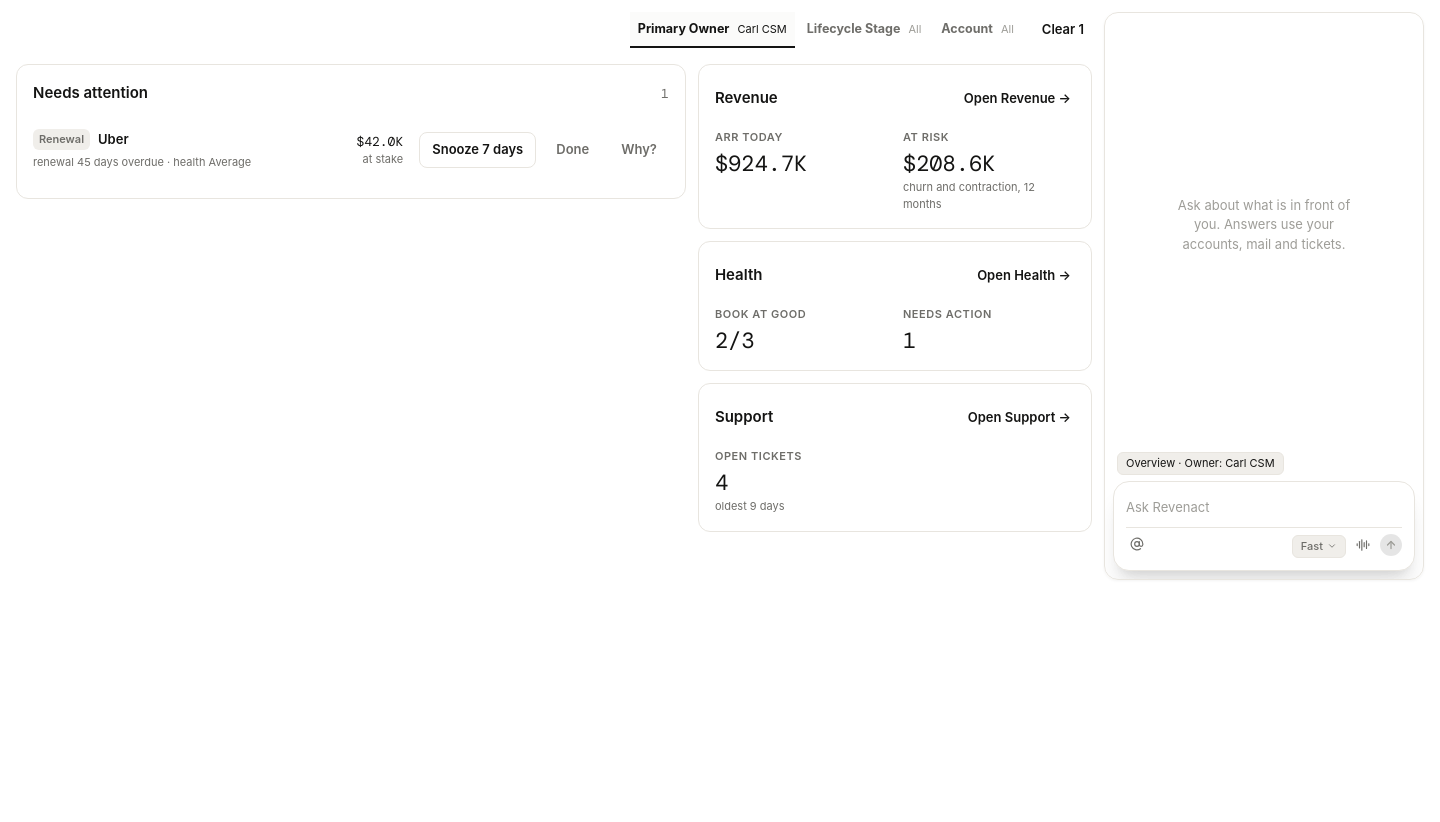
Test: Overview › keeps an Undo to the filter it was made under
Expected: the link "Uber" is shown, [98,130,128,149]
Click the button with aria-label "Snooze Uber for 7 days" at (478, 150), box [419,132,536,168]
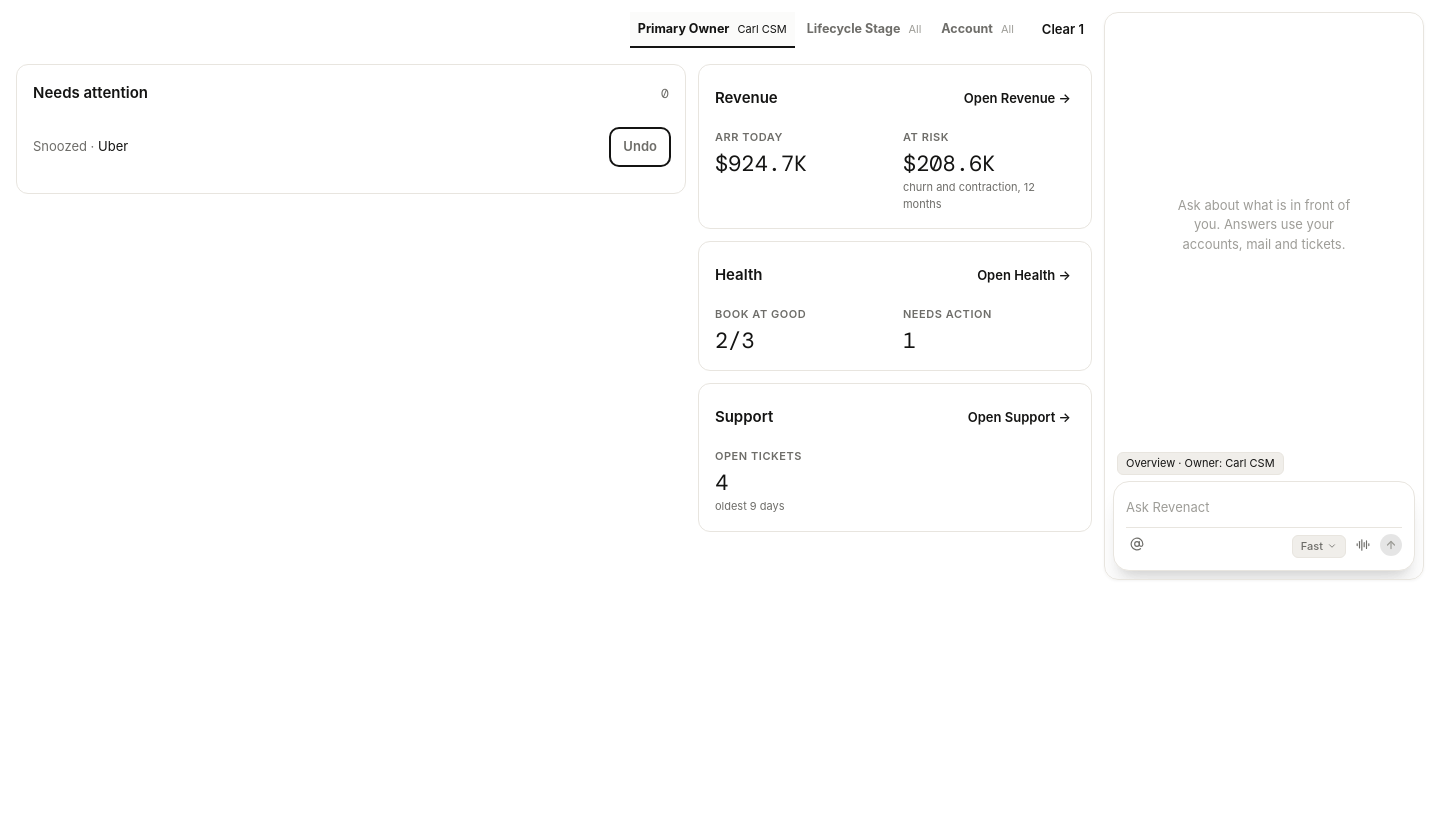
Now the text "Snoozed · Uber" is shown, box [33,137,128,157]
Select "Dana CSM" in the dropdown labelled "Primary Owner" at (712, 30), box [630,12,795,48]
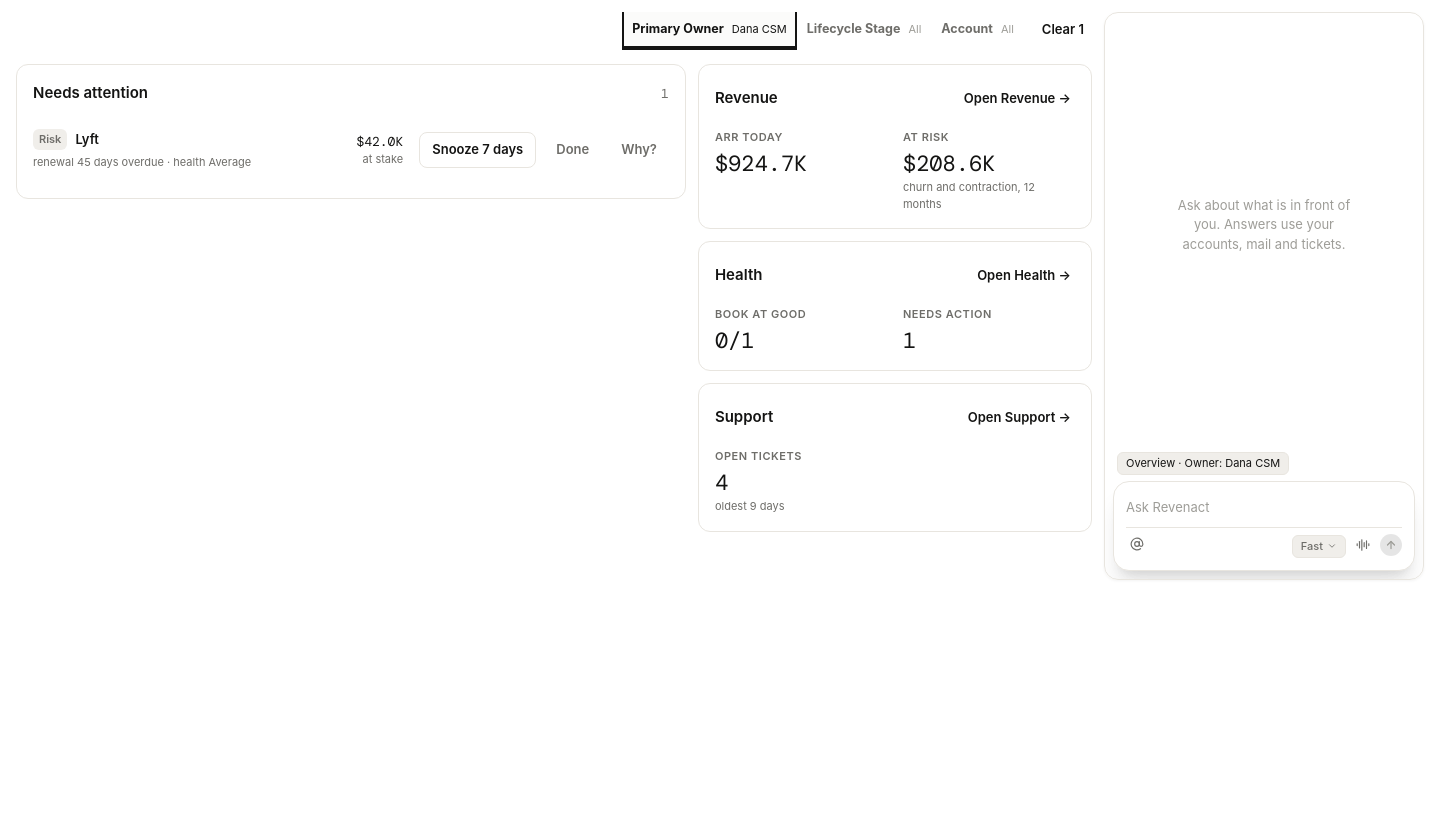
Expected: the number of list items is 1, [33,117,669,182]
Now the link "Lyft" is shown, box [75,130,99,149]
Now the text "Snoozed" is gone
Select "Carl CSM" in the dropdown labelled "Primary Owner" at (710, 30), box [624,12,795,48]
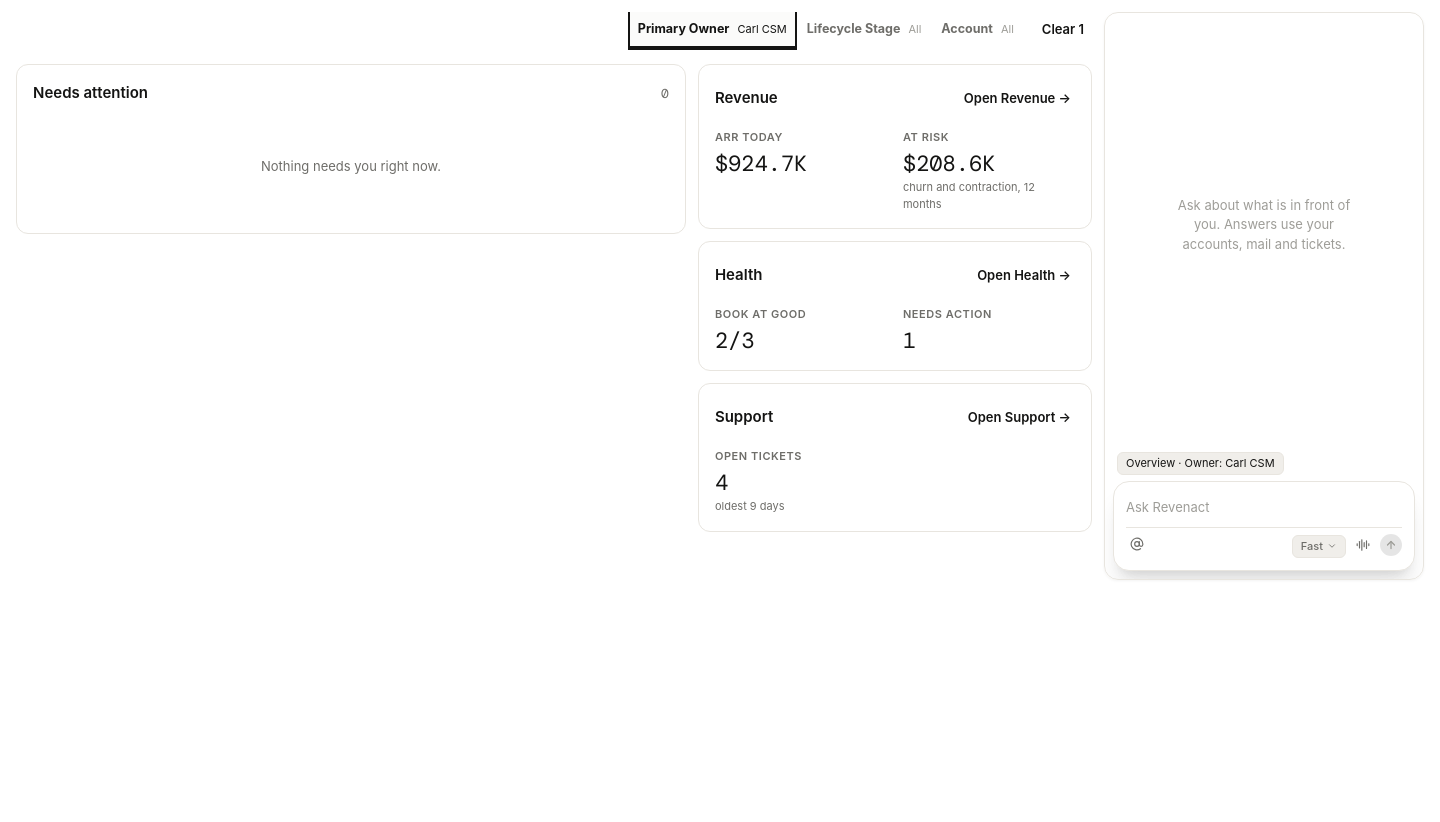
Expected: the text "Uber" is not shown
Now the text "Nothing needs you right now." is shown, box [261,158,441,174]
